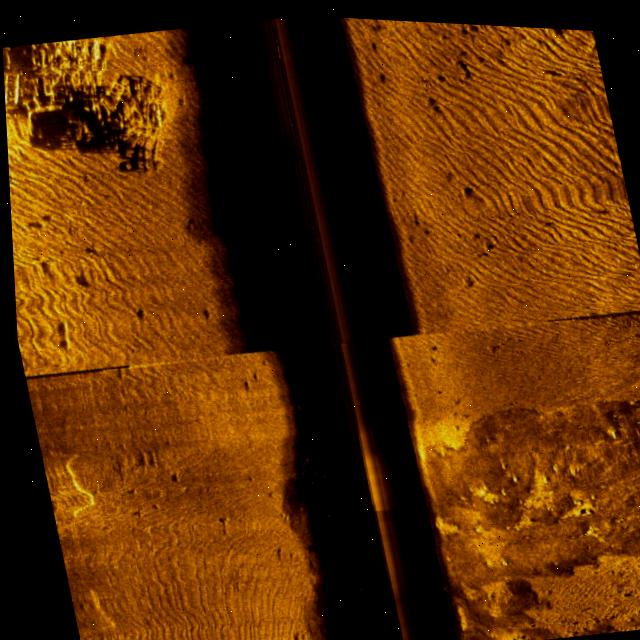artificial reef: (36, 24, 179, 178)
